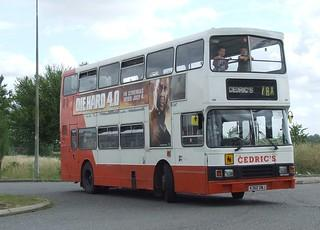bus: (58, 27, 296, 198)
